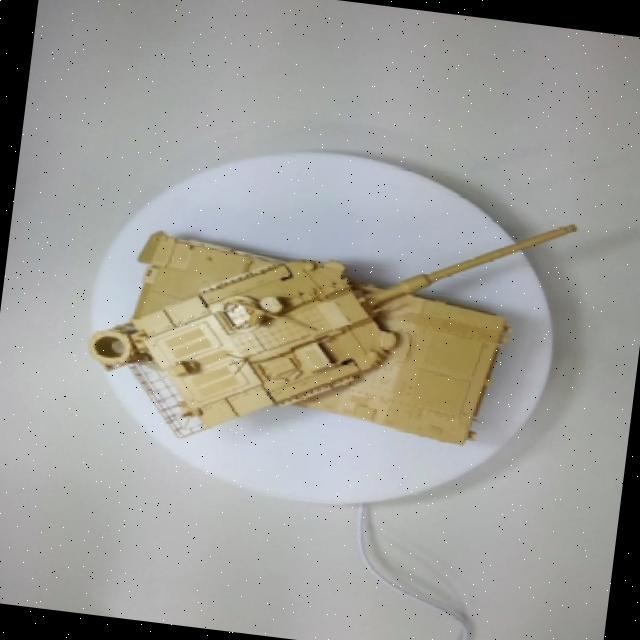korea tank: (53, 125, 628, 531)
